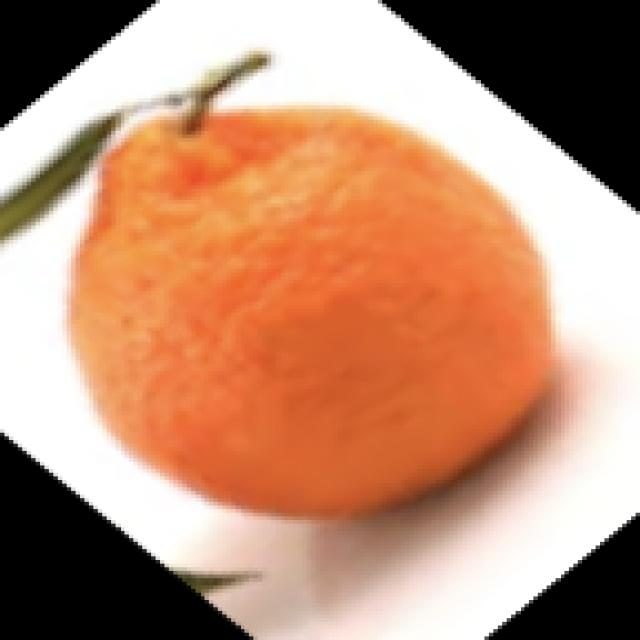fresh: (38, 69, 576, 537)
